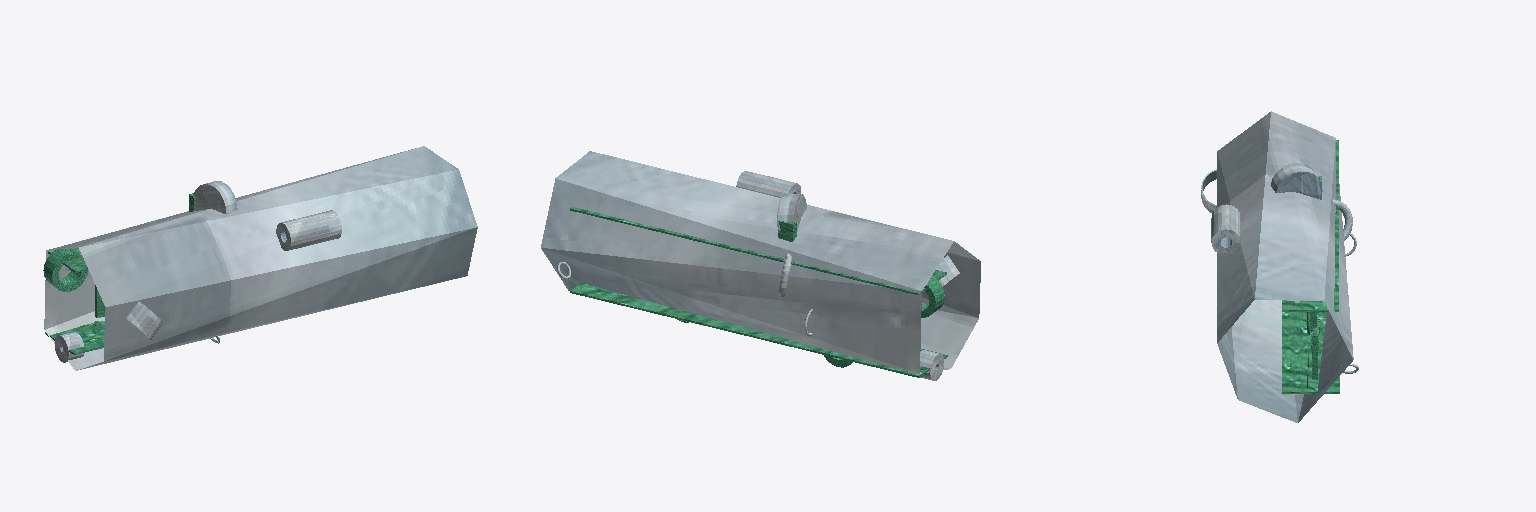
3 renders of one model, left to right at view 1: azimuth 30°, elevation 25°; view 2: azimuth 150°, elevation 25°; view 3: azimuth 270°, elevation 25°, orthographic.
Parts seen in each view (by area): view 1: room4:pCylinder1 room4:polySurface2 room4:polySurface3 room4:pol, room4:initialShadingGroup room4:polySurface3 room4:polySurface1, room2:polySurface57; view 2: room4:pCylinder1 room4:polySurface2 room4:polySurface3 room4:pol, room2:polySurface57, room4:initialShadingGroup room4:polySurface3 room4:polySurface1; view 3: room4:pCylinder1 room4:polySurface2 room4:polySurface3 room4:pol, room2:polySurface57, room4:initialShadingGroup room4:polySurface3 room4:polySurface1.
Boxes of the visible parts, box(x1,y1,x2,y2) form: room4:pCylinder1 room4:polySurface2 room4:polySurface3 room4:pol: box(44, 146, 477, 370); room4:initialShadingGroup room4:polySurface3 room4:polySurface1: box(55, 181, 341, 362); room2:polySurface57: box(43, 193, 195, 354); room4:pCylinder1 room4:polySurface2 room4:polySurface3 room4:pol: box(541, 151, 980, 373); room2:polySurface57: box(570, 207, 947, 377); room4:initialShadingGroup room4:polySurface3 room4:polySurface1: box(557, 171, 959, 380); room4:pCylinder1 room4:polySurface2 room4:polySurface3 room4:pol: box(1217, 111, 1353, 422); room2:polySurface57: box(1282, 140, 1339, 393); room4:initialShadingGroup room4:polySurface3 room4:polySurface1: box(1201, 163, 1358, 373).
Bounding box in the file's own units: 178 × 66.81 × 64.03.
2 materials, 2 textured.